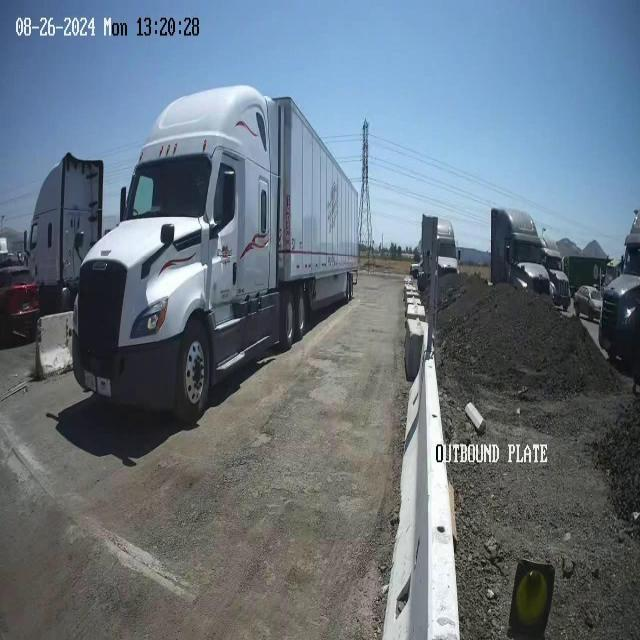TRUCK_OUT: (70, 84, 360, 426)
